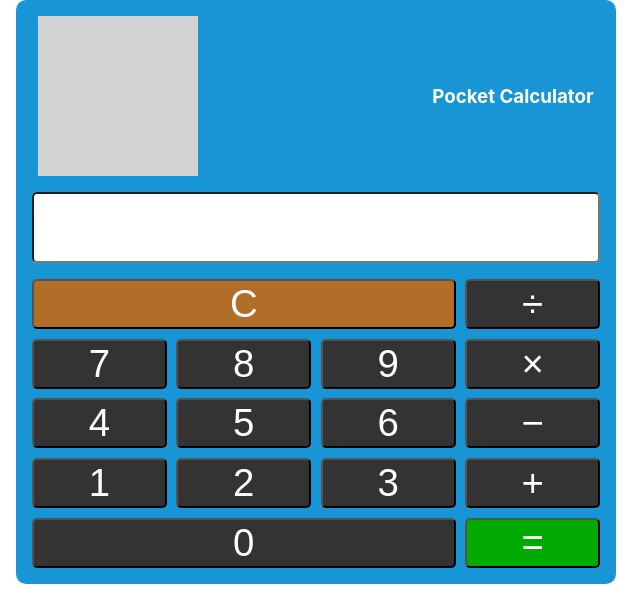
Scenario: Calculator component › button interactions › should render the correct calculated result for 1+1
What coordinates should you click on to do the following:
click the button with test id "One"
I would click on:
 (99, 483)
Its box is 32,458 -> 167,508.
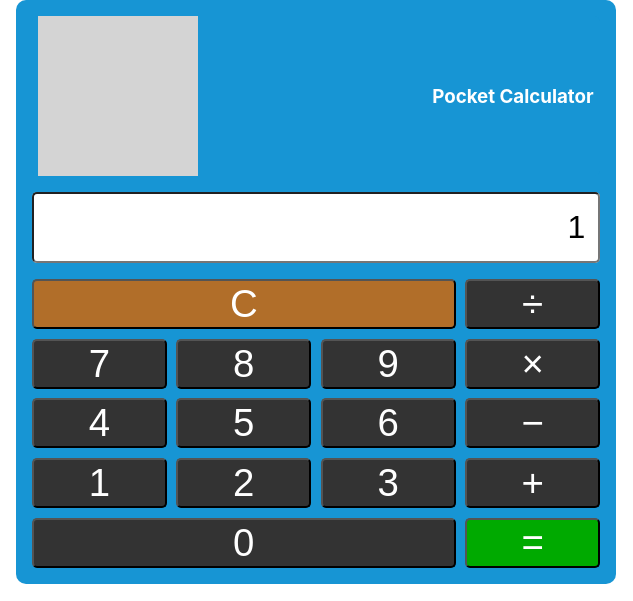
What coordinates should you click on to do the following:
click the button with test id "Add"
I would click on:
 (533, 483)
Its box is 465,458 -> 600,508.
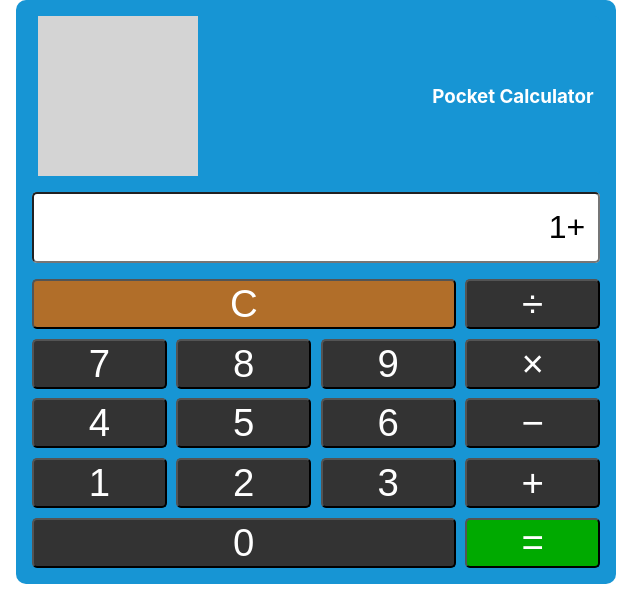
What coordinates should you click on to do the following:
click the button with test id "One"
I would click on:
 (99, 483)
Its box is 32,458 -> 167,508.
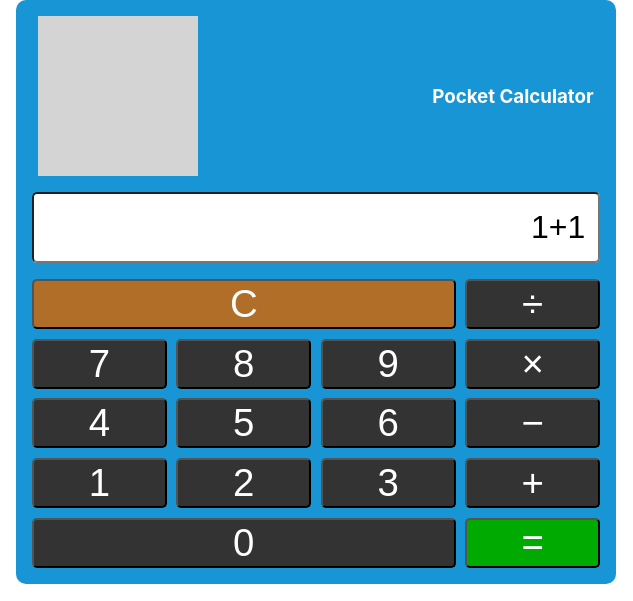
expect the field with test id "component-screen-input" holds "1+1": met, box 32,192 -> 600,263
What coordinates should you click on to do the following:
click the button with test id "Equal"
I would click on:
 (533, 543)
Its box is 465,518 -> 600,568.
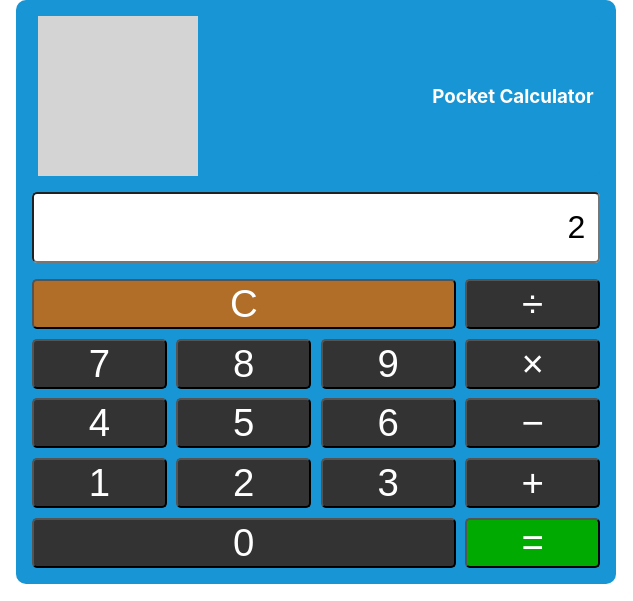
expect the field with test id "component-screen-input" holds "2": met, box 32,192 -> 600,263
